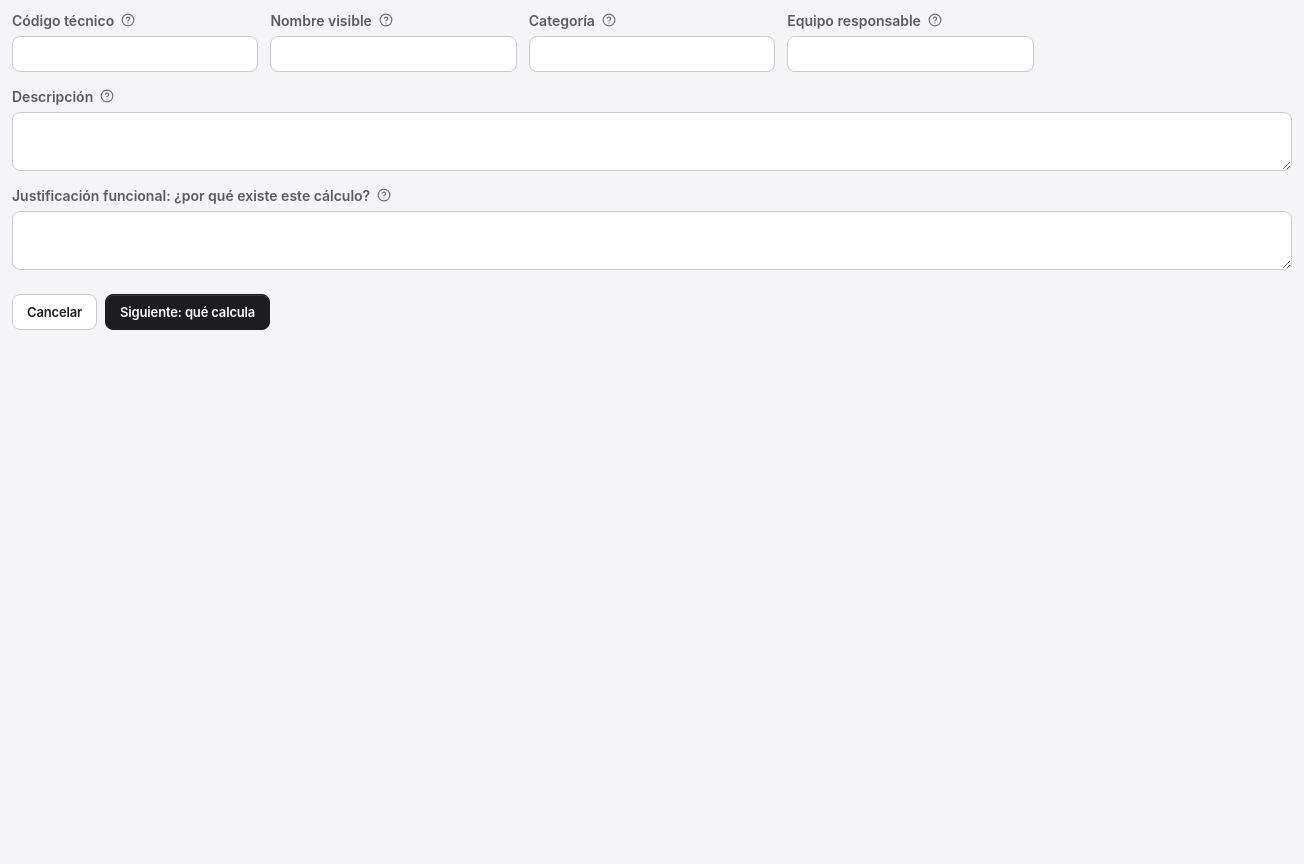
Test: alta de campo calculado › muestra cada incumplimiento del contrato que devuelve el motor
In the field labelled "Código técnico": [135, 54] box [12,36,258,72], type "ingreso_disponible"
In the field labelled "Nombre visible": [394, 54] box [270,36,517,72], type "Ingreso disponible"
In the field labelled "Categoría": [652, 54] box [529,36,775,72], type "AFORDABILIDAD"
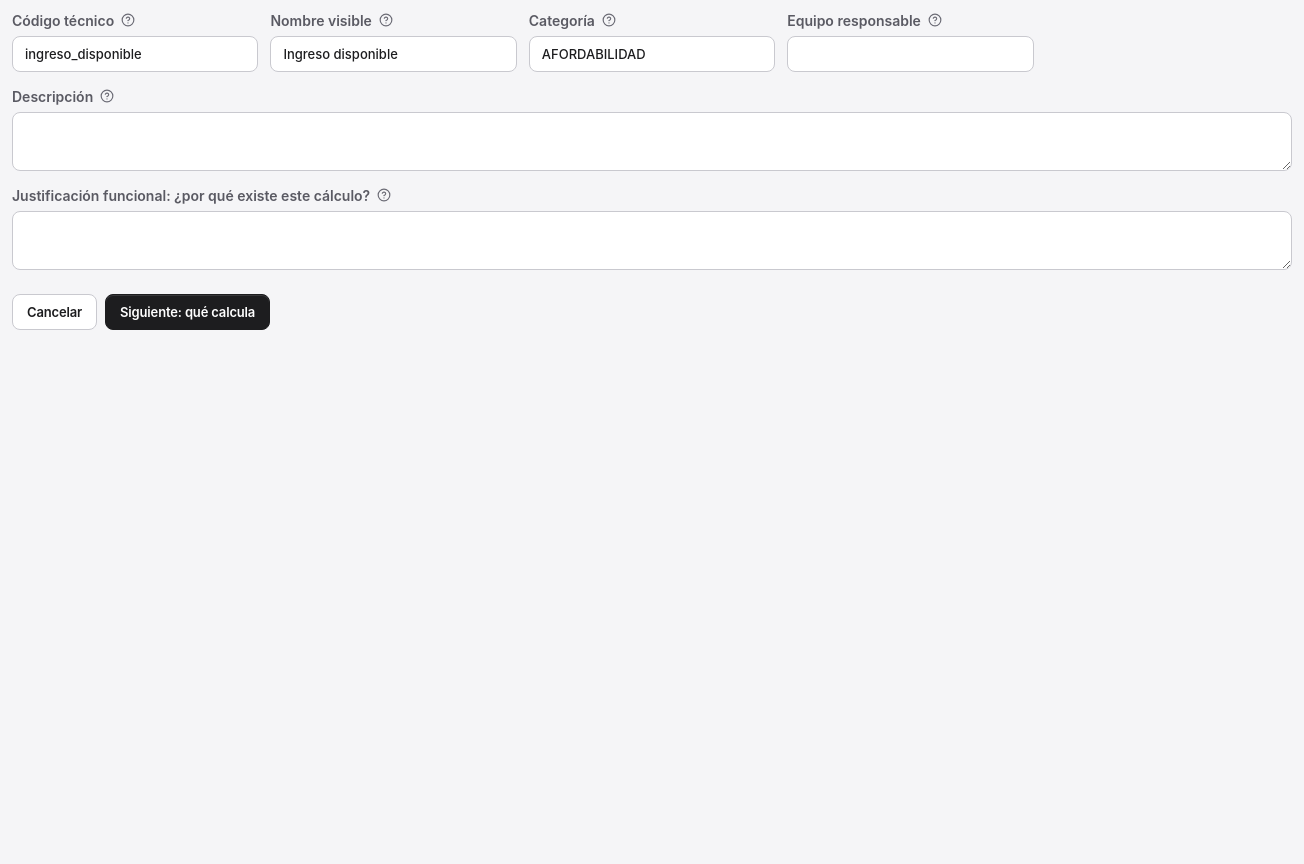
In the field labelled "Equipo responsable": [910, 54] box [787,36,1034,72], type "RIESGOS"
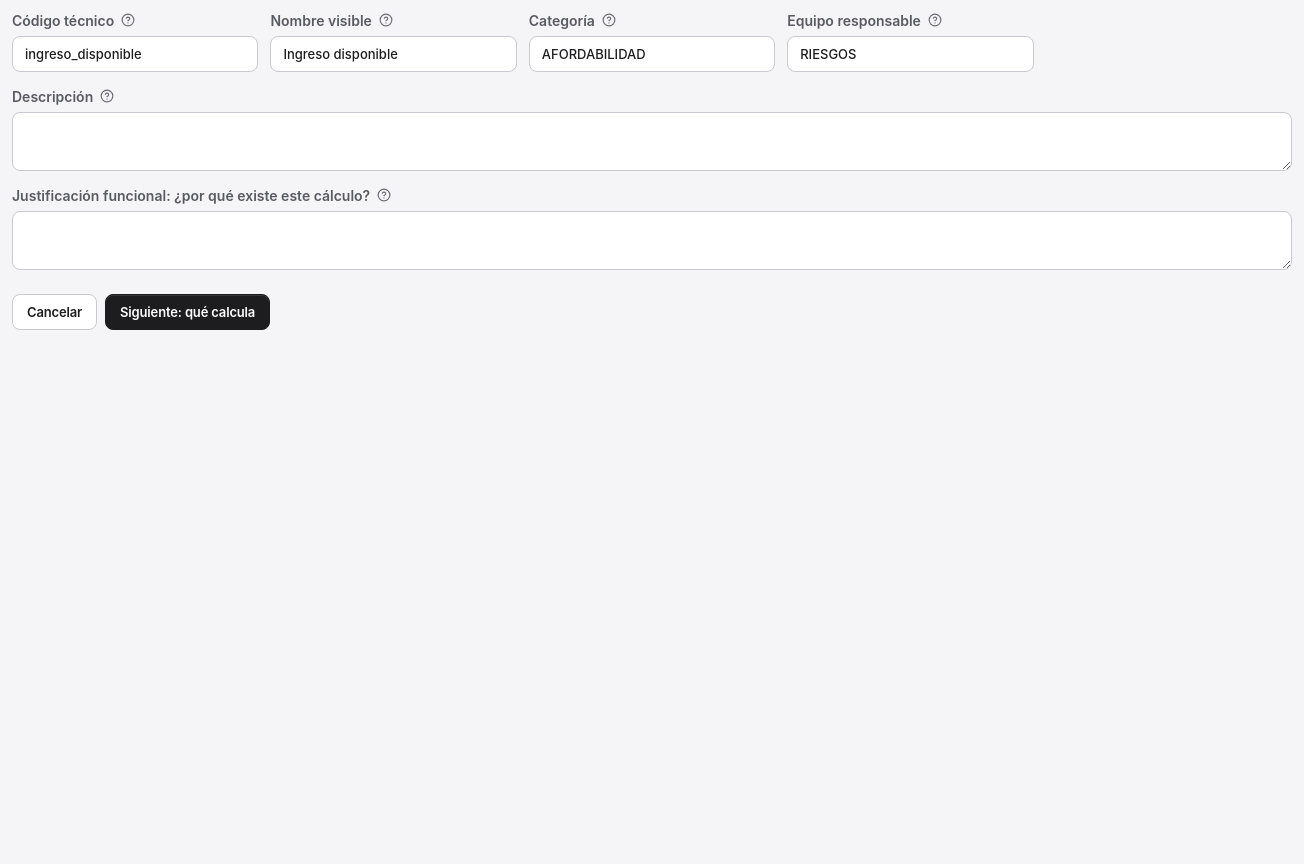
In the text box labelled "Descripción": [652, 142] box [12,112,1292,171], type "Ingreso menos gastos"
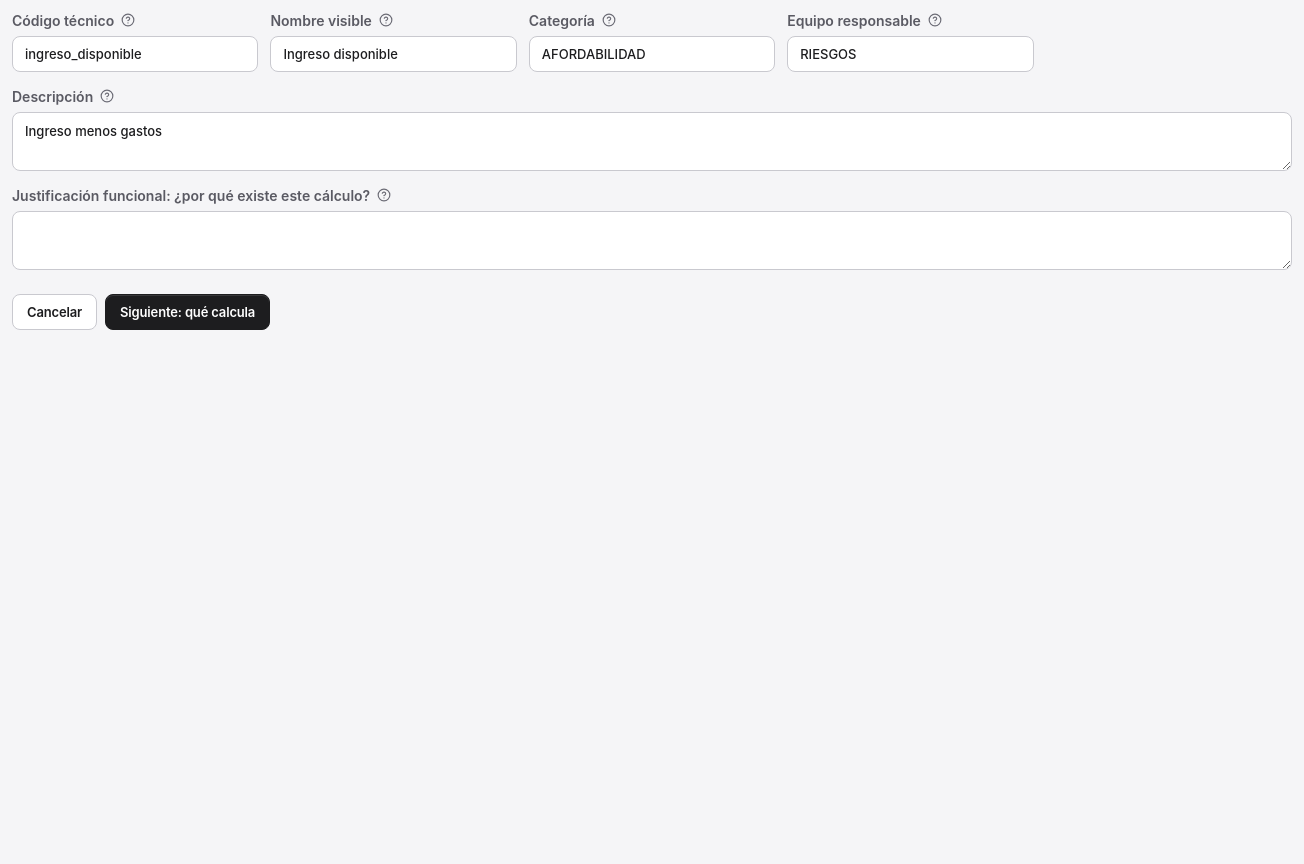
In the text box labelled "Justificación funcional: ¿por qué existe este cálculo?": [652, 240] box [12,211,1292,270], type "Base de la capacidad de pago"
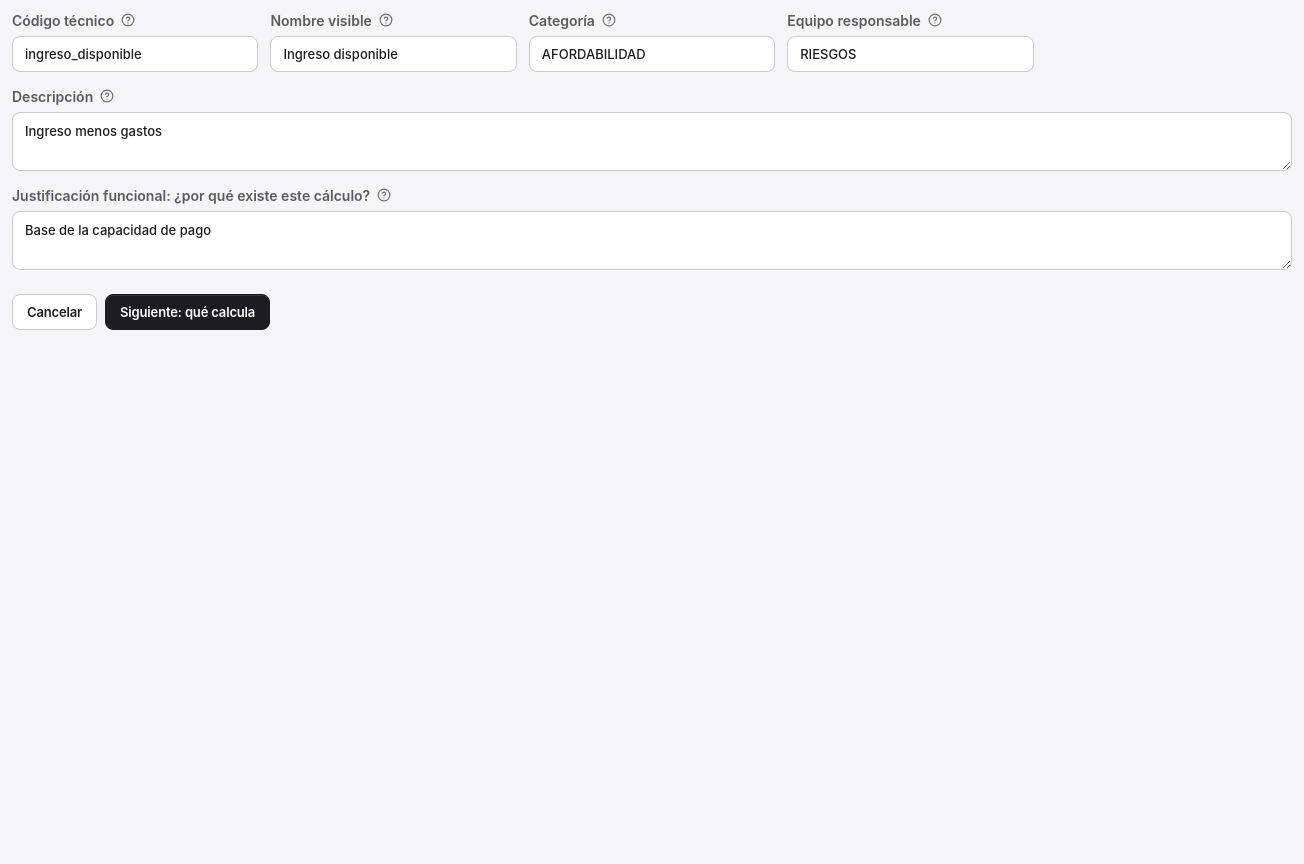
Click the button "Siguiente: qué calcula": [188, 312] box [105,294,270,330]
(page scrolled)
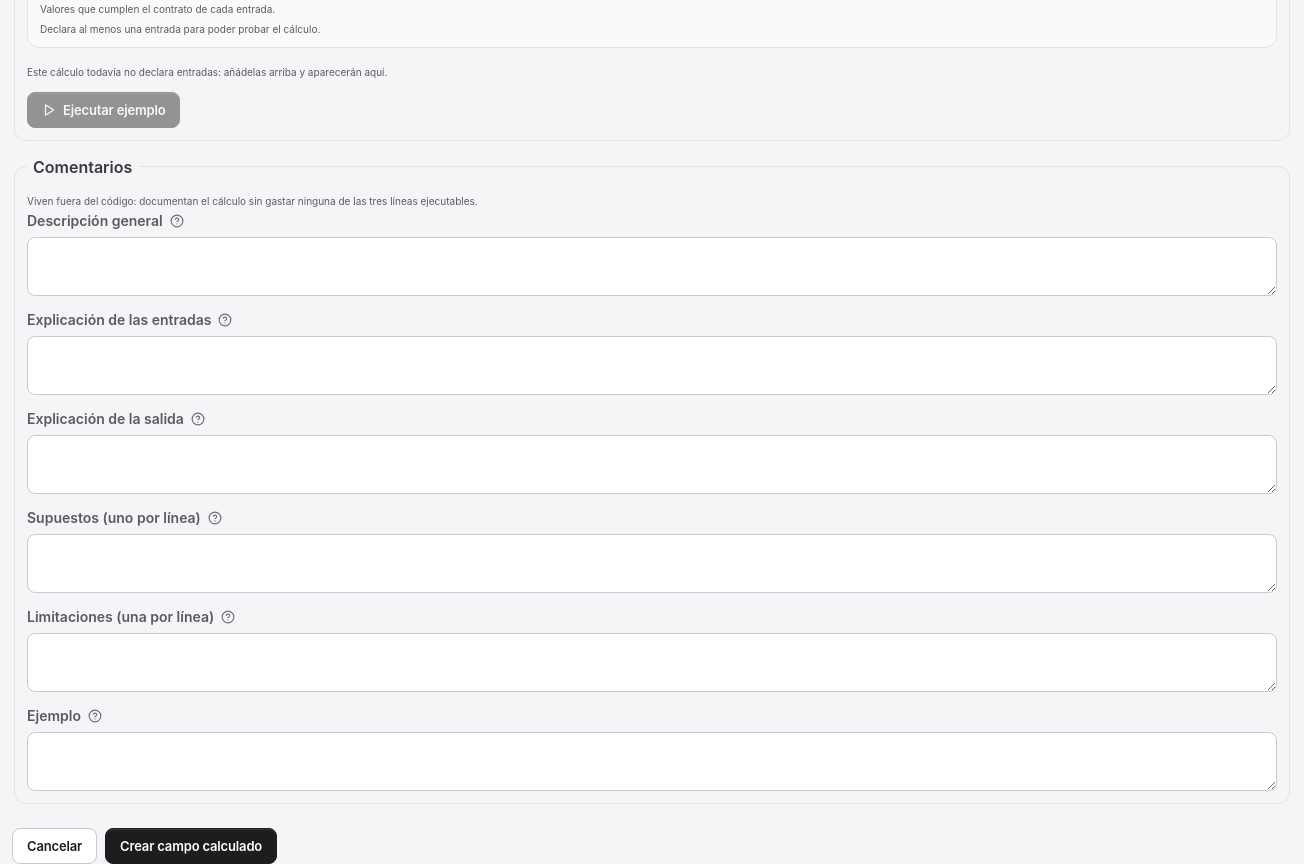
Click the button "Crear campo calculado": [191, 846] box [105,828,277,863]
(page scrolled)
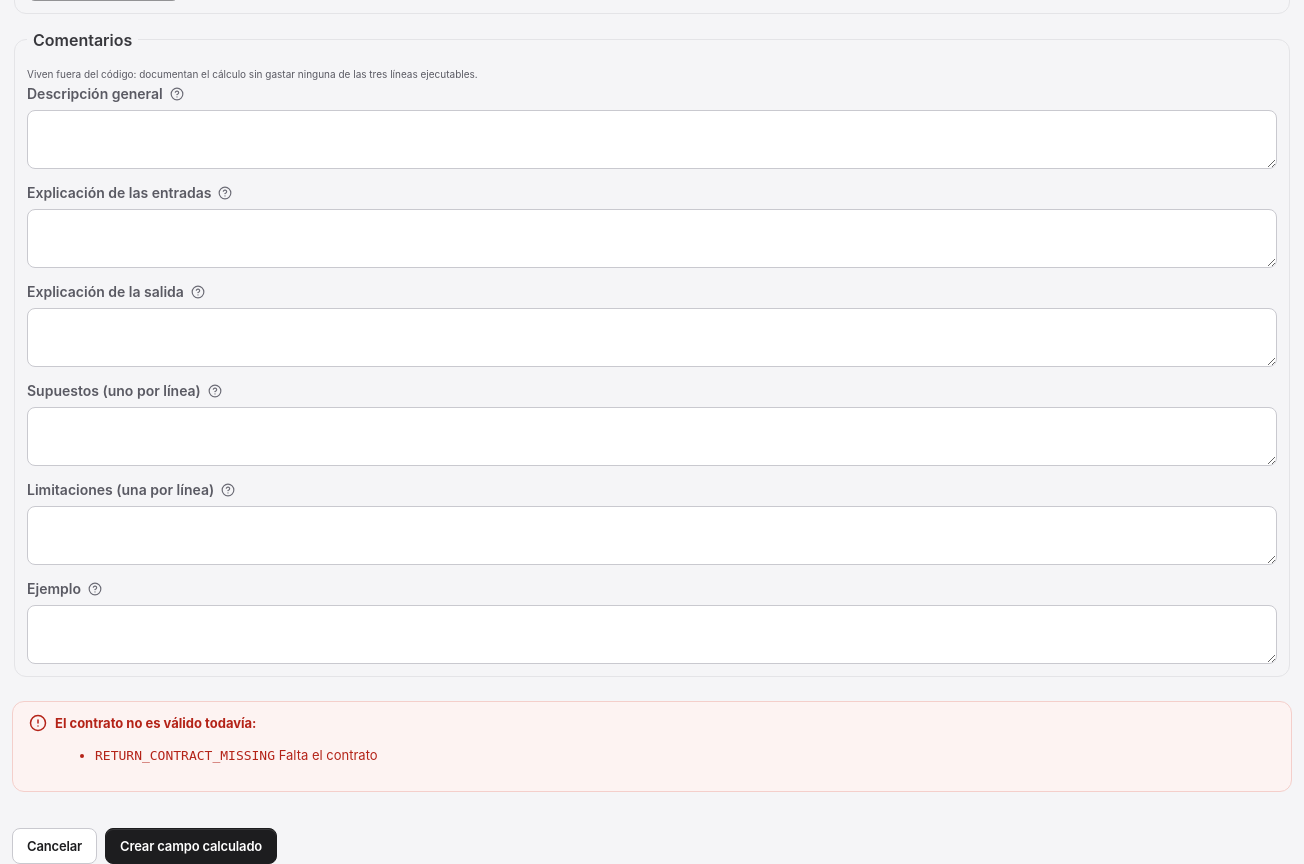
Expected: the text "RETURN_CONTRACT_MISSING" is shown, [95,748,275,763]
Expected: the list item "Falta el contrato" is shown, [279,747,378,763]
